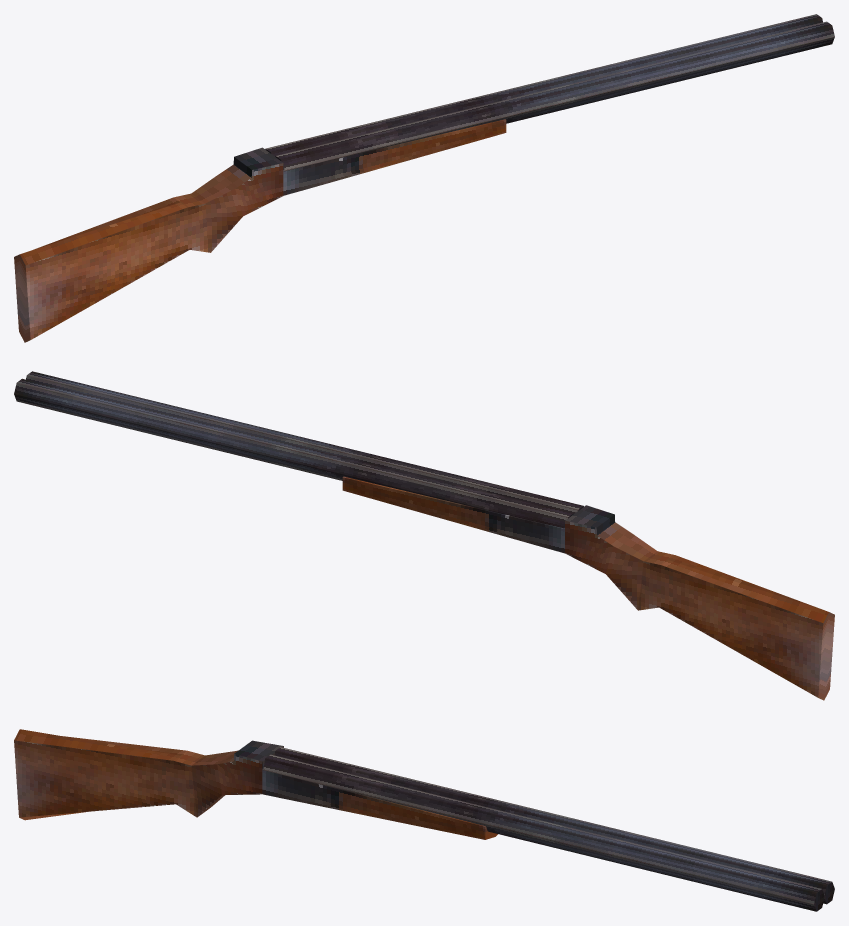
Rendered from winchester_double_barrel_-_ps1_low_poly.glb.
The picture shows the model from 3 angles, top to bottom: view 1: azimuth 30°, elevation 25°; view 2: azimuth 150°, elevation 25°; view 3: azimuth 330°, elevation 25°; orthographic projection.
Parts seen in each view (by area): view 1: Plane.001; view 2: Plane.001; view 3: Plane.001.
Boxes of the visible parts, x1,y1,x2,y2 form: Plane.001: (14, 14, 834, 342); Plane.001: (14, 371, 834, 700); Plane.001: (14, 729, 834, 911).
Bounding box in the file's own units: 14.13 × 2.15 × 0.6476.
Materials: 3 (3 with a texture image).
